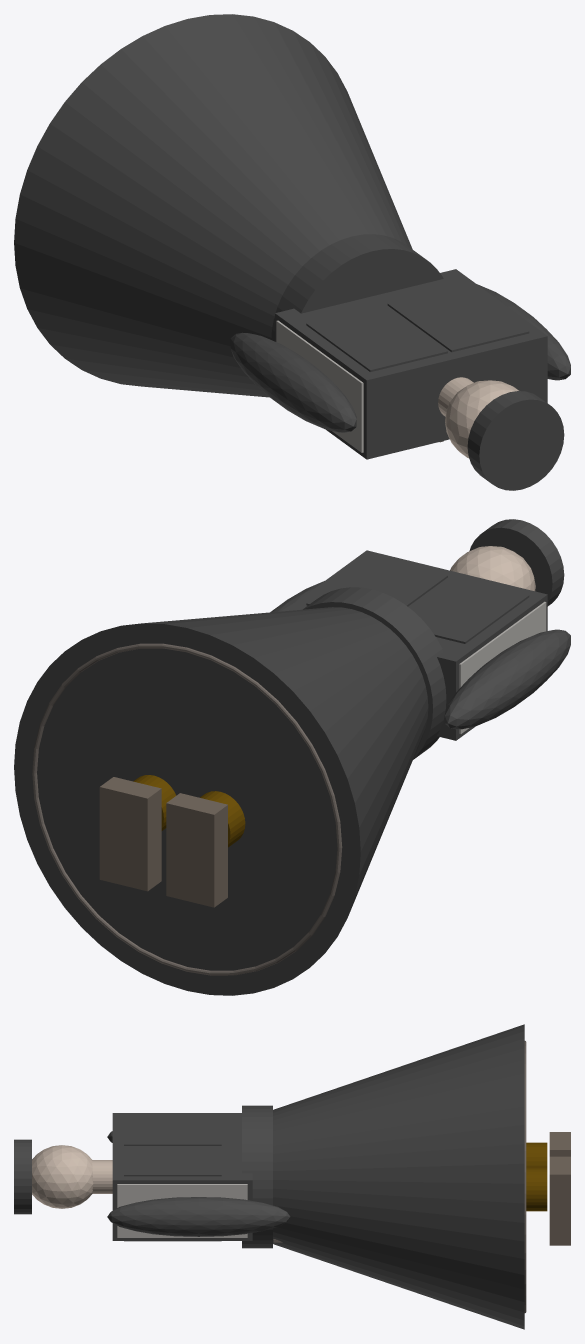
The model's file is MASTER_152_STAGE3_DETAIL.glb.
3 views of the same model, one above another, from view 1: azimuth 30°, elevation 25°; view 2: azimuth 150°, elevation 25°; view 3: azimuth 270°, elevation 25° (orthographic). The views are drawn at different scales.
Visible parts, largest first — view 1: slot_lower_main__fund_i_gjatë, slot_upper_inner__këmishë, slot_waist__brez, slot_headwear__mbulesë_koke, slot_upper_inner_sleeve_L, slot_upper_outer__jelek/xhamadan_R, slot_upper_outer__jelek/xhamadan_L, mannequin_torso, mannequin_head, slot_upper_inner_sleeve_R; view 2: slot_lower_main__fund_i_gjatë, slot_footwear__opinga_R, slot_footwear__opinga_L, slot_upper_inner_sleeve_L, slot_waist__brez, detail_skirt_hem, slot_upper_inner__këmishë, slot_upper_outer__jelek/xhamadan_L, slot_headwear__mbulesë_koke, slot_upper_outer__jelek/xhamadan_R, mannequin_head, mannequin_torso (+2 smaller); view 3: slot_lower_main__fund_i_gjatë, slot_upper_inner_sleeve_R, slot_upper_inner__këmishë, mannequin_head, slot_waist__brez, slot_upper_outer__jelek/xhamadan_R, slot_upper_outer__jelek/xhamadan_L, mannequin_torso, slot_footwear__opinga_R, slot_headwear__mbulesë_koke, slot_legwear__çorape_R, detail_skirt_hem (+3 smaller).
Part boxes in pixels (x1,y1,x2,y2): slot_lower_main__fund_i_gjatë: (14, 14, 412, 397); slot_upper_inner__këmishë: (275, 269, 547, 459); slot_waist__brez: (271, 234, 443, 341); slot_headwear__mbulesë_koke: (467, 391, 564, 490); slot_upper_inner_sleeve_L: (230, 332, 356, 432); slot_upper_outer__jelek/xhamadan_R: (387, 285, 529, 352); slot_upper_outer__jelek/xhamadan_L: (306, 304, 447, 371); mannequin_torso: (276, 320, 363, 452); mannequin_head: (445, 380, 518, 458); slot_upper_inner_sleeve_R: (477, 284, 570, 380); slot_lower_main__fund_i_gjatë: (14, 607, 428, 995); slot_footwear__opinga_R: (99, 777, 161, 891); slot_footwear__opinga_L: (166, 793, 227, 907); slot_upper_inner_sleeve_L: (444, 629, 570, 729); slot_waist__brez: (303, 587, 446, 759); detail_skirt_hem: (32, 643, 342, 975); slot_upper_inner__këmishë: (284, 550, 547, 740); slot_upper_outer__jelek/xhamadan_L: (409, 576, 529, 643); slot_headwear__mbulesë_koke: (469, 519, 564, 606); slot_upper_outer__jelek/xhamadan_R: (306, 556, 447, 606); mannequin_head: (450, 546, 535, 591); mannequin_torso: (459, 601, 546, 733); slot_lower_main__fund_i_gjatë: (273, 1024, 524, 1329); slot_upper_inner_sleeve_R: (107, 1197, 290, 1236); slot_upper_inner__këmishë: (112, 1113, 252, 1240); mannequin_head: (32, 1145, 93, 1208); slot_waist__brez: (242, 1105, 272, 1248); slot_upper_outer__jelek/xhamadan_R: (124, 1146, 221, 1241); slot_upper_outer__jelek/xhamadan_L: (124, 1115, 221, 1145); mannequin_torso: (117, 1184, 247, 1237); slot_footwear__opinga_R: (549, 1156, 570, 1245); slot_headwear__mbulesë_koke: (14, 1139, 31, 1214); slot_legwear__çorape_R: (526, 1167, 547, 1211); detail_skirt_hem: (524, 1041, 526, 1312).
Bounding box in the file's own units: 0.9386 × 0.9386 × 1.71.
